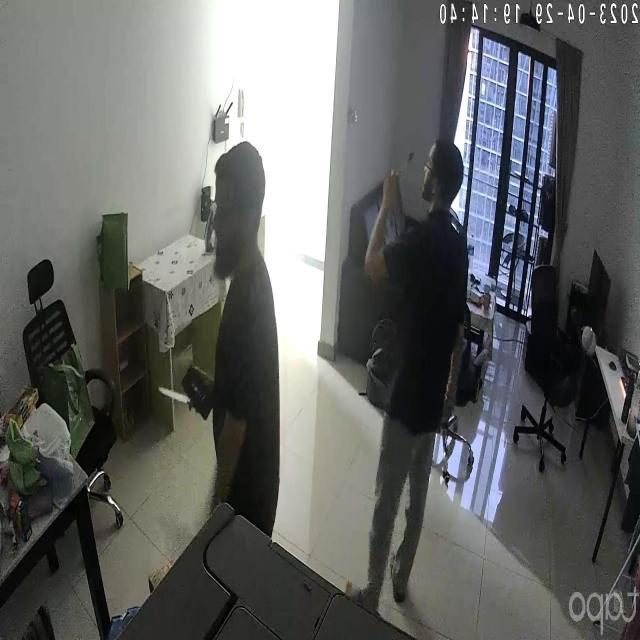Knife: (154, 378, 208, 413)
